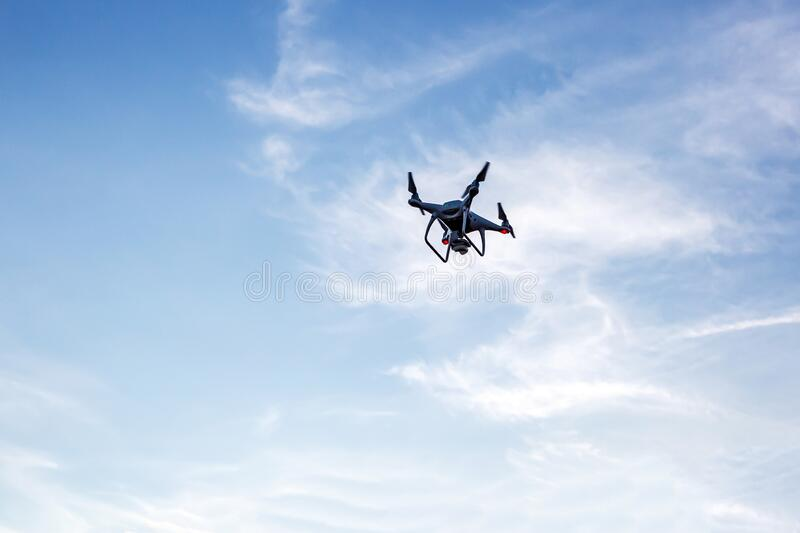drone: (404, 161, 517, 262)
